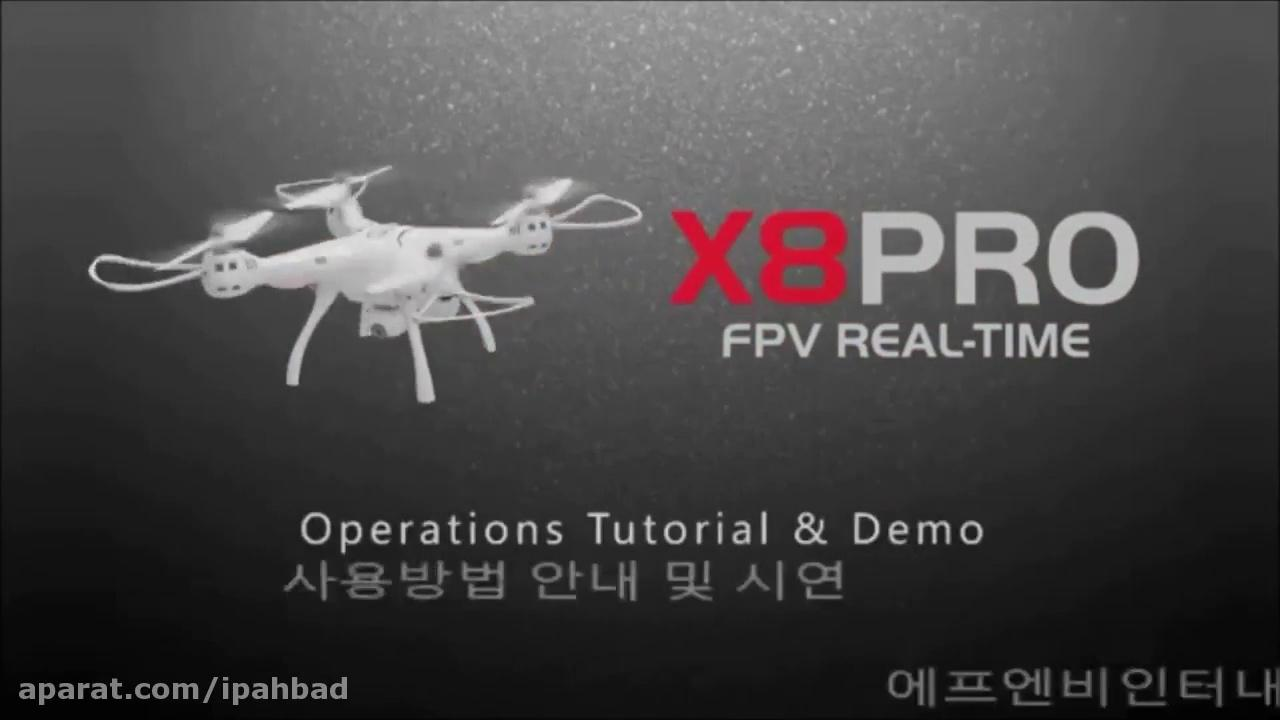drone: (86, 165, 642, 403)
